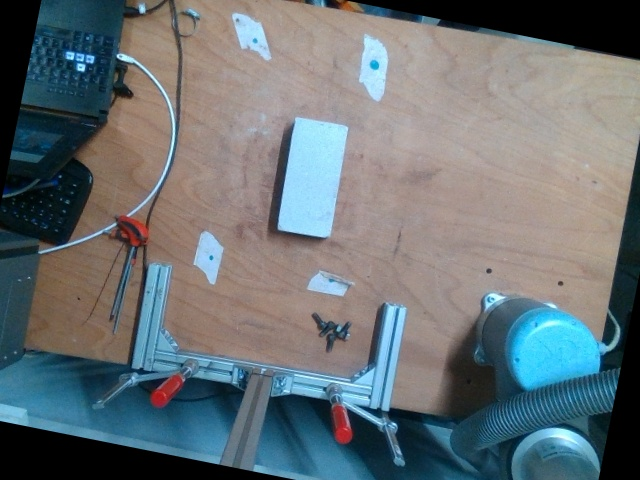brick: (275, 117, 347, 236)
